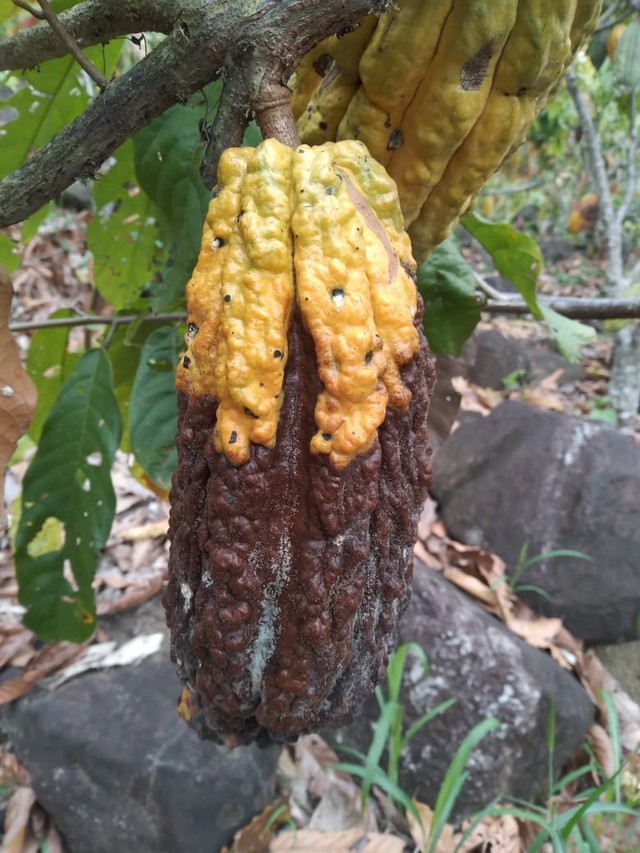phytophthora palmivora: (158, 128, 437, 752)
